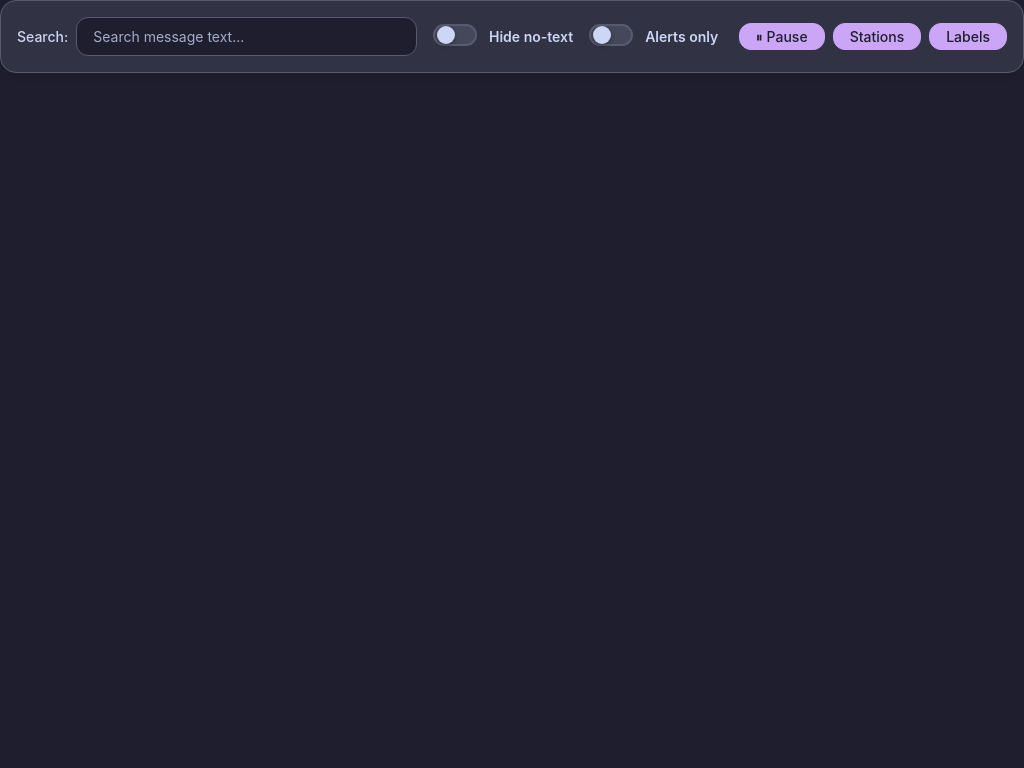
Test: MessageFilters › label filter modal › renders an empty-state when labels.labels is empty
Click the button "Labels".
click(968, 37)  # box [929, 23, 1007, 50]
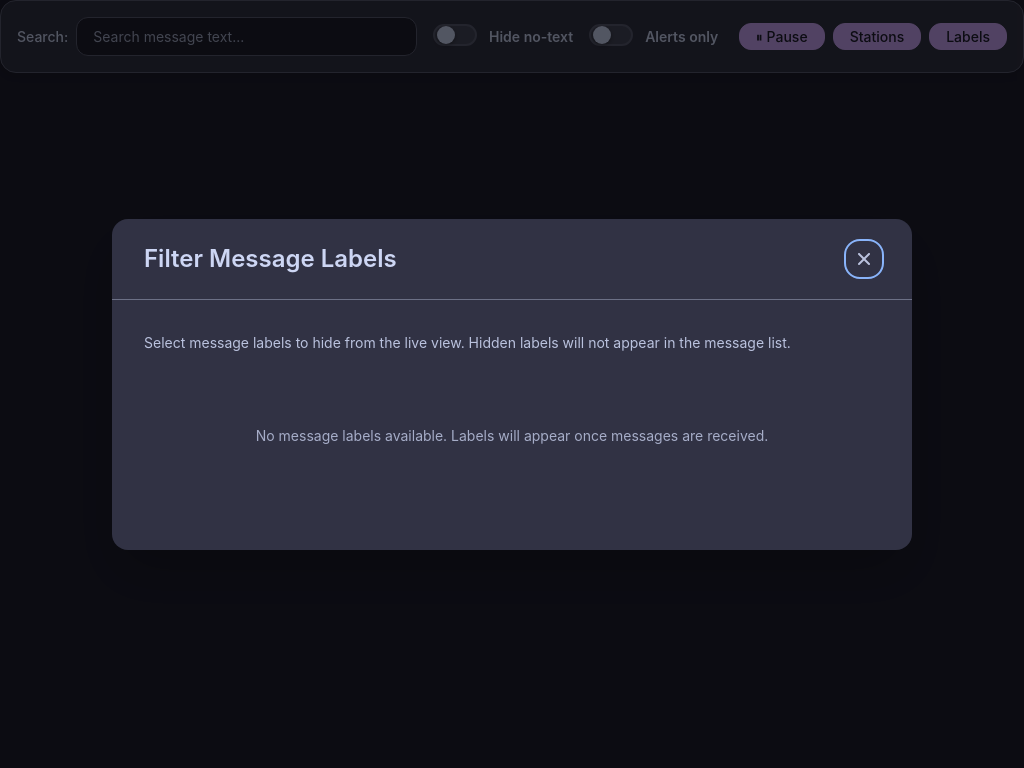
Now the text "No message labels available" is shown, box [256, 426, 768, 444]
